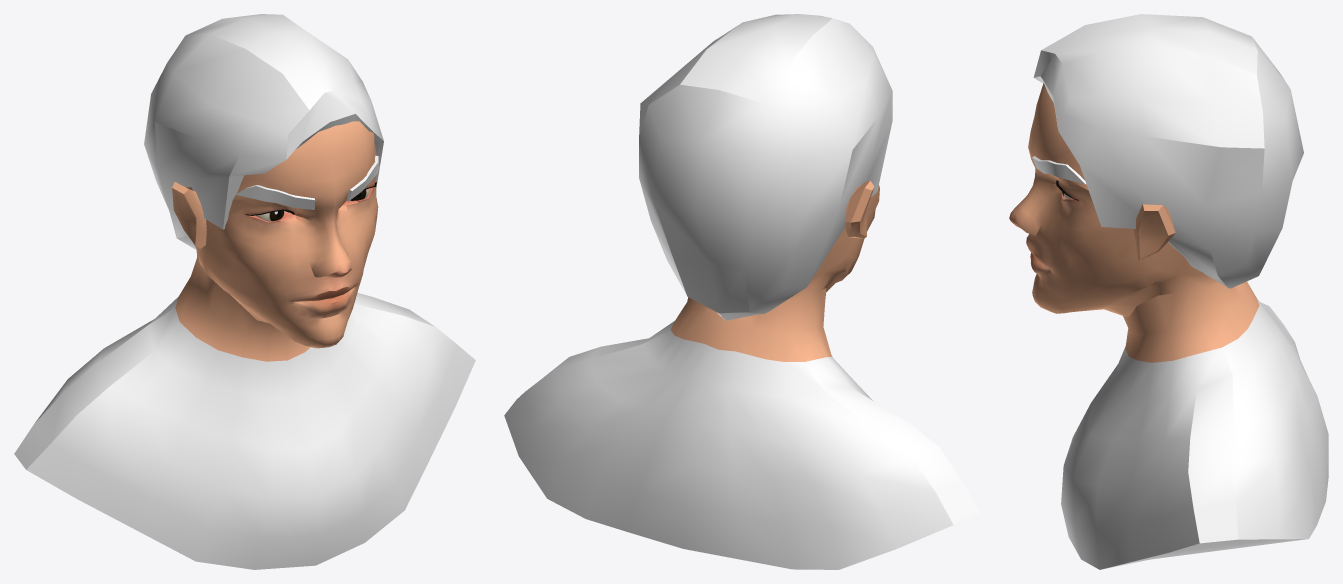
Rendered from Male_Avatar_3.fbx.
3 views of the same model, side by side, from view 1: azimuth 30°, elevation 25°; view 2: azimuth 150°, elevation 25°; view 3: azimuth 270°, elevation 25° (orthographic). The views are drawn at different scales.
Visible parts, largest first — view 1: Male Head.002, Male Hair.001, Eyebrow.004; view 2: Male Head.002, Male Hair.001; view 3: Male Head.002, Male Hair.001, Eyebrow.004.
Part boxes in pixels (<box>): Male Head.002: <box>14,121,475,569</box>; Male Hair.001: <box>144,14,383,250</box>; Eyebrow.004: <box>235,155,379,209</box>; Male Head.002: <box>504,180,980,569</box>; Male Hair.001: <box>639,14,892,320</box>; Male Head.002: <box>1009,83,1328,569</box>; Male Hair.001: <box>1033,14,1303,288</box>; Eyebrow.004: <box>1032,156,1086,184</box>.
Bounding box in the file's own units: 51.65 × 55.11 × 31.33.
3 materials, 1 textured.
